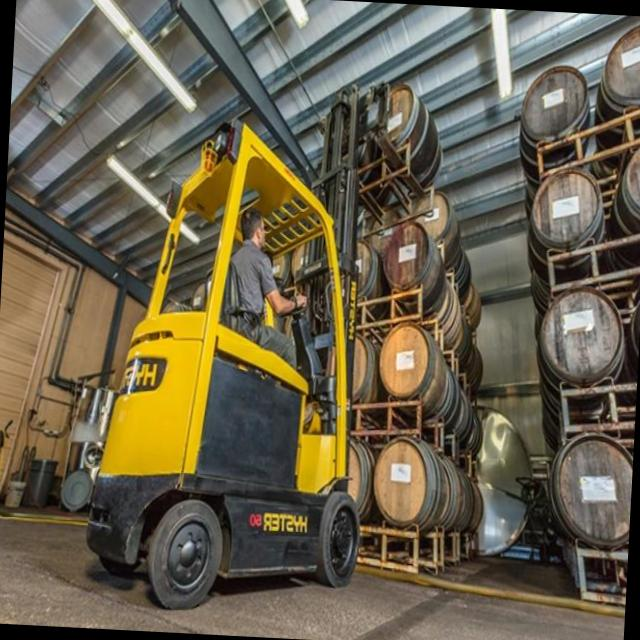driver: (224, 202, 308, 352)
forklift: (76, 69, 384, 624)
